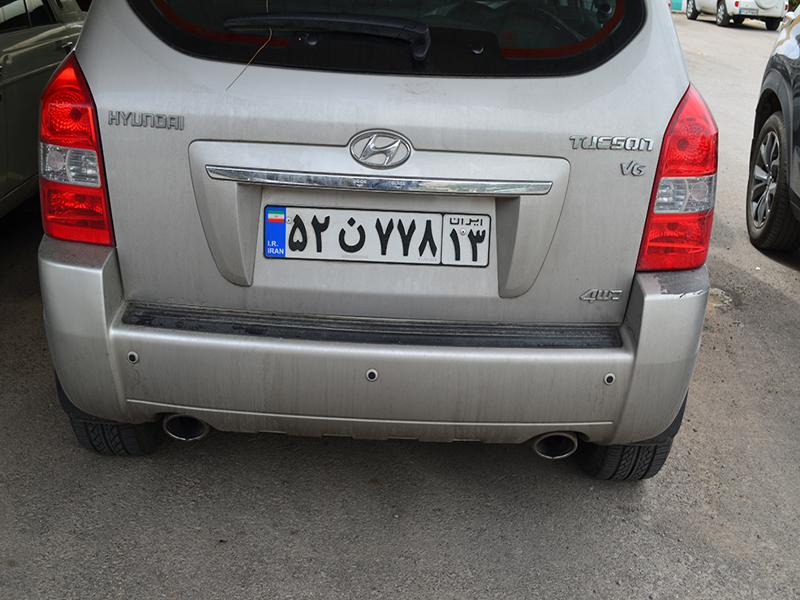Plate: (248, 198, 502, 276)
